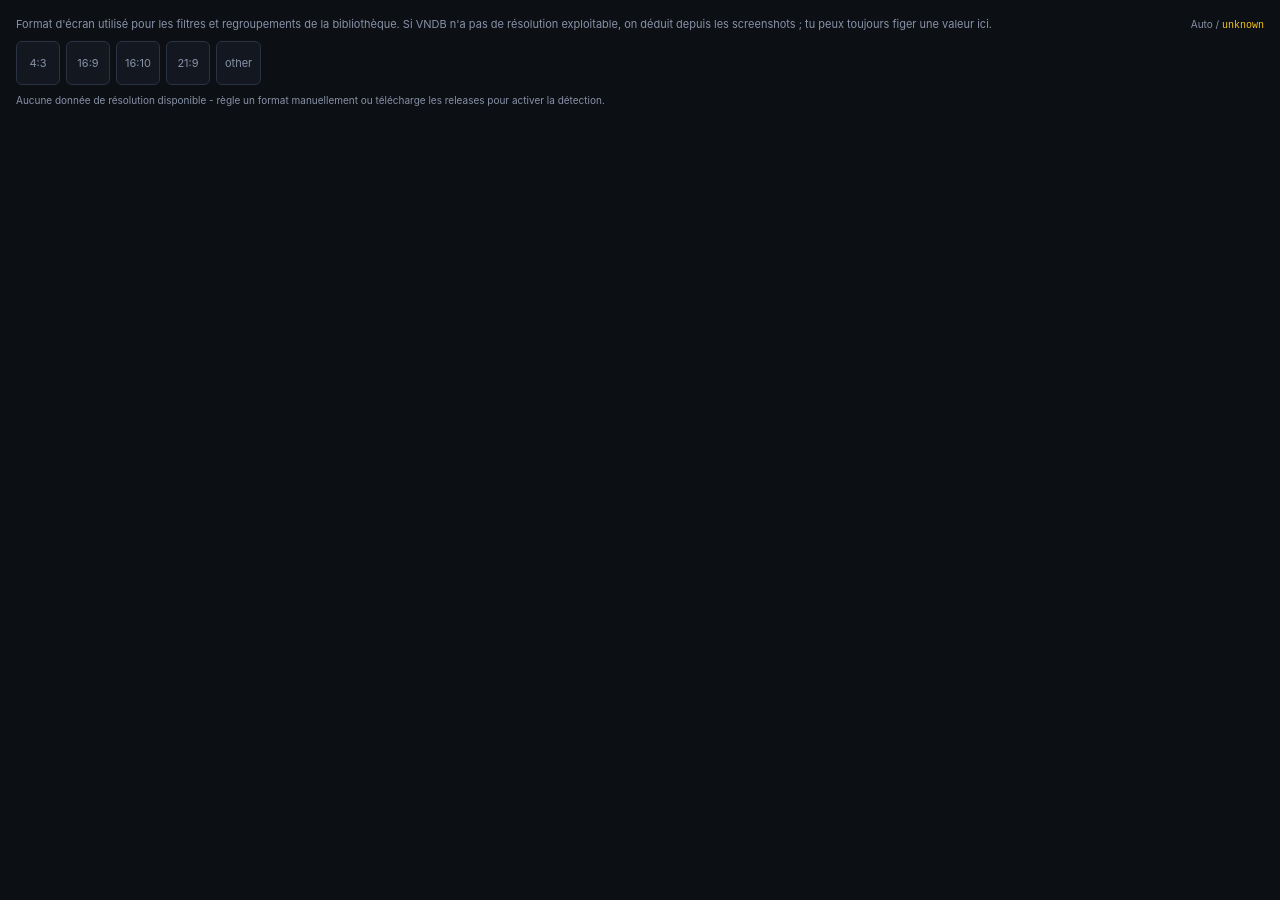
Test: AspectOverrideControl › toasts the generic error when a save response cannot be decoded
Step 1. Click the button "16:10" → point(138, 63), box [116,41,160,85]
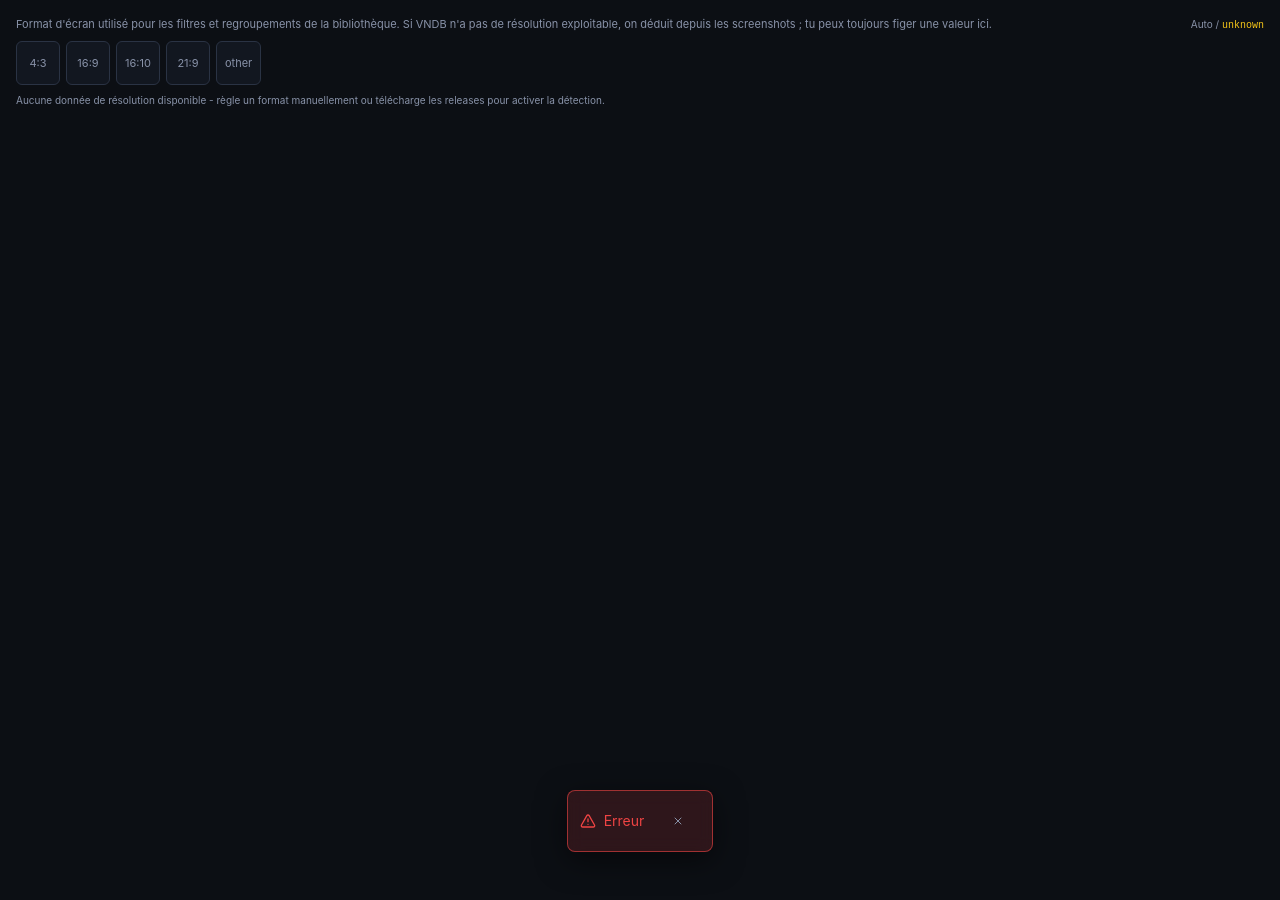
Now the text "Erreur" is shown, box [604,811,644,831]
